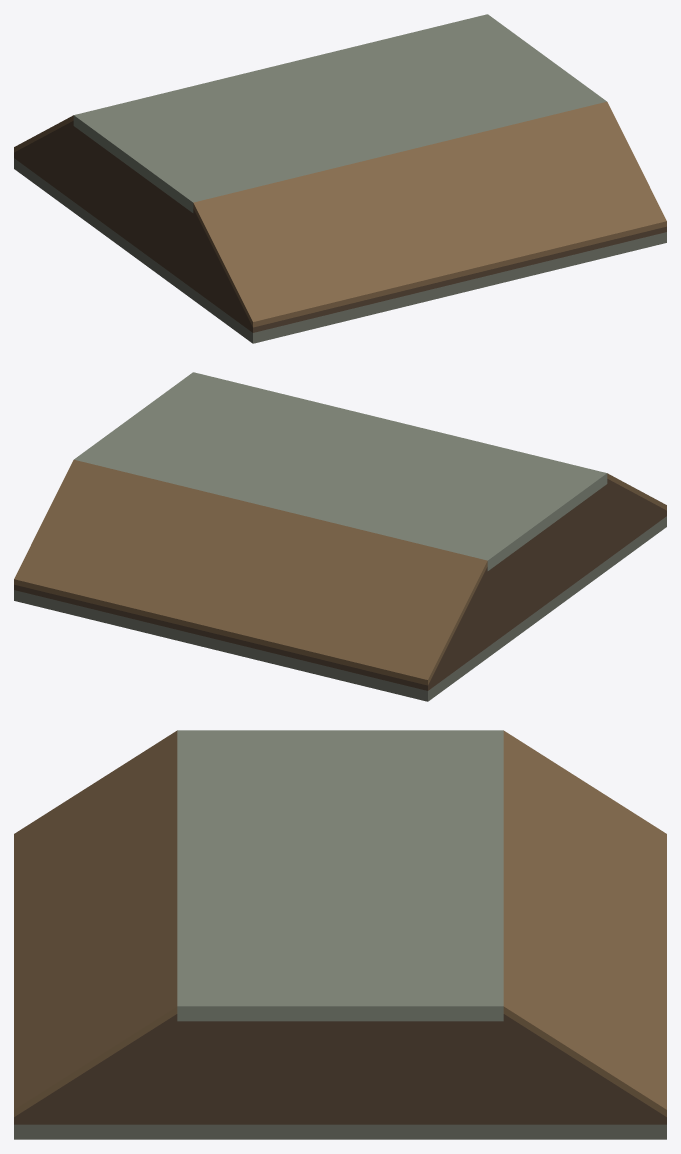
File: visual-far.glb
3 views of the same model, one above another, from view 1: azimuth 30°, elevation 25°; view 2: azimuth 150°, elevation 25°; view 3: azimuth 270°, elevation 25° (orthographic). The views are drawn at different scales.
Visible parts, largest first — view 1: 路肩填挖与地形接边组件; view 2: 路肩填挖与地形接边组件; view 3: 路肩填挖与地形接边组件.
Boxes of the visible parts, <box> form: 路肩填挖与地形接边组件: <box>14,14,666,343</box>; 路肩填挖与地形接边组件: <box>14,372,666,701</box>; 路肩填挖与地形接边组件: <box>14,730,666,1139</box>.
Bounding box in the file's own units: 8 × 1.8 × 8.
Materials: 4 (4 with a texture image).
